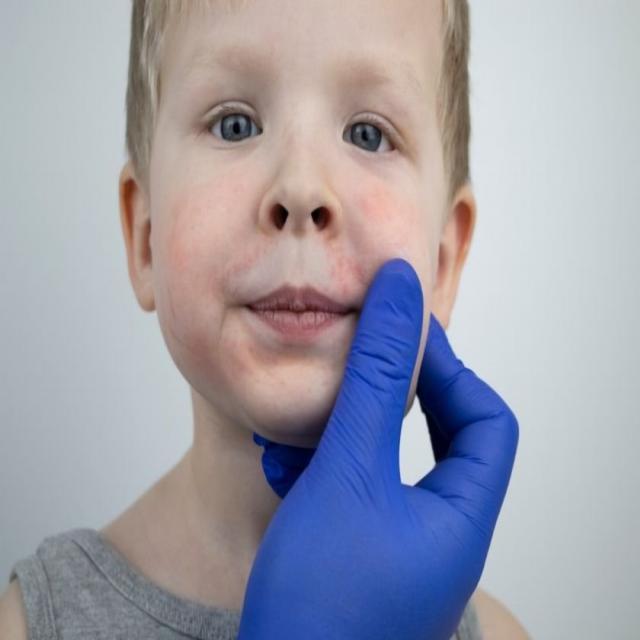eczema: (324, 239, 366, 293)
